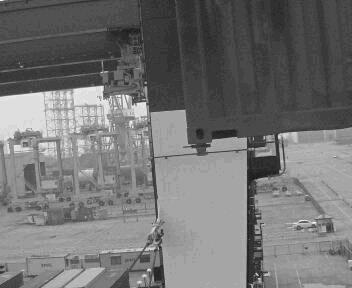twist_lock_1: (185, 138, 214, 160)
